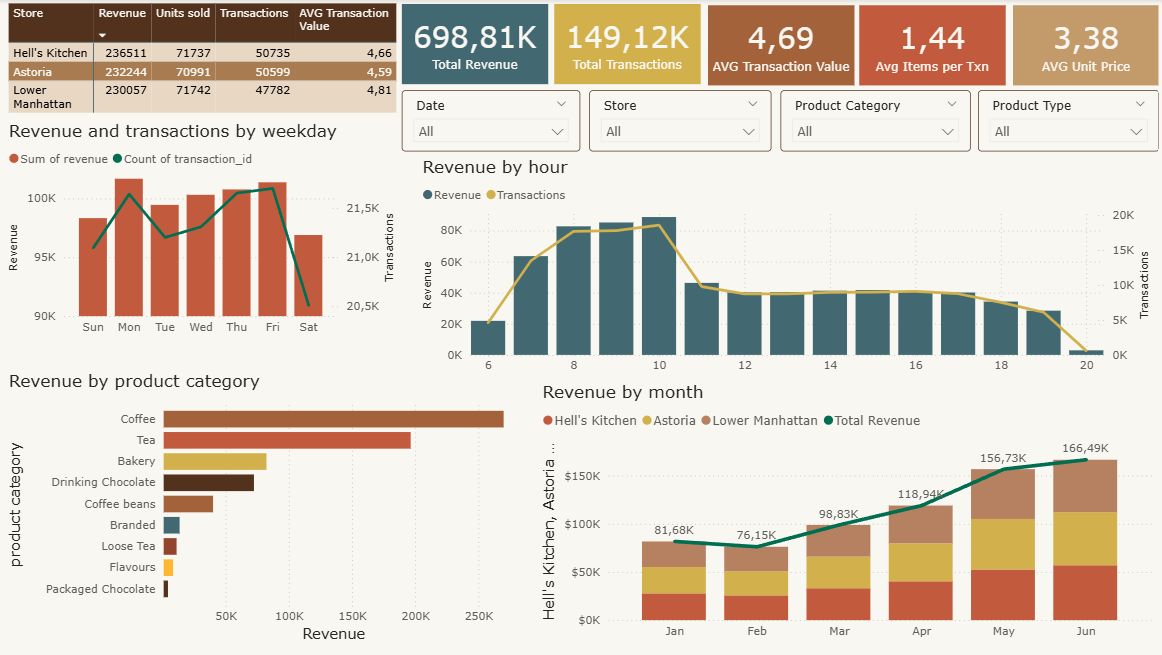

What the dashboard file says about the page in this screenshot:
{"tool":"powerbi","page":{"name":"Sales Overview","canvas":[1280,720],"ordinal":0},"visuals":[{"type":"card","fields":{"Values":["Sum(public coffee_sales.revenue)"]},"box":[443,5.5,161,88],"z":0},{"type":"card","fields":{"Values":["CountNonNull(public coffee_sales.transaction_id)"]},"box":[611,5.5,161,88],"z":1000},{"type":"card","fields":{"Values":["Measures_.Average Transaction Value"]},"box":[779,6.9,161,88],"z":2000},{"type":"card","fields":{"Values":["Measures_.Average Unit Price"]},"box":[1114,6.9,161,88],"z":3000},{"type":"card","fields":{"Values":["Measures_.Average Items per Transaction"]},"box":[946,6.9,161,88],"z":4000},{"type":"lineStackedColumnComboChart","title":"Revenue by month","fields":{"Category":["Calendar.MONTH name"],"Y":["Measures_.Revenue_HellsKitchen","Measures_.Revenue_Astoria","Measures_.Revenue_LowerManhattan"],"Y2":["Measures_.Total Revenue"]},"box":[592.8,419.9,679.2,290.9],"z":5000},{"type":"pivotTable","fields":{"Rows":["public coffee_sales.store_location"],"Values":["Measures_.Total Revenue","Sum(public coffee_sales.transaction_qty)","CountNonNull(public coffee_sales.transaction_id)","Measures_.Average Transaction Value"]},"box":[6.9,0,436.4,131.7],"z":6000},{"type":"lineClusteredColumnComboChart","title":"Revenue by hour","fields":{"Category":["public coffee_sales.hour"],"Y":["Sum(public coffee_sales.revenue)"],"Y2":["CountNonNull(public coffee_sales.transaction_id)"]},"box":[461.1,172.9,811,247],"z":7000},{"type":"lineClusteredColumnComboChart","title":"Revenue and transactions by weekday","fields":{"Y":["Sum(public coffee_sales.revenue)"],"Y2":["CountNonNull(public coffee_sales.transaction_id)"],"Category":["Calendar.WEEKDAY name"]},"box":[6.9,133.1,436.4,244.3],"z":8000},{"type":"clusteredBarChart","title":"Revenue by product category","fields":{"Category":["public coffee_sales.product_category"],"Y":["Sum(public coffee_sales.revenue)"]},"box":[6.9,407.5,569.5,303.3],"z":9000},{"type":"slicer","title":"Date","fields":{"Values":["Calendar.Date.Variation.Date Hierarchy.Month","Calendar.Date.Variation.Date Hierarchy.Day"]},"box":[443.2,100.2,196.2,67.2],"z":10000},{"type":"slicer","title":"Date","fields":{"Values":["public coffee_sales.store_location"]},"box":[649.1,100.2,200.3,67.2],"z":11000},{"type":"slicer","title":"Date","fields":{"Values":["public coffee_sales.product_category"]},"box":[859,100.2,209,67.2],"z":12000},{"type":"slicer","title":"Date","fields":{"Values":["public coffee_sales.product_type"]},"box":[1075.8,100.2,199,67.2],"z":13000}]}

Visuals, with their boxes in screenshot pixels (x1, y1, x2, y2), scaled from the page's 1280x720 canvas onto the 1162x655 screenshot:
card - Sum(public coffee_sales.revenue): rect(402, 5, 548, 85)
card - CountNonNull(public coffee_sales.transaction_id): rect(555, 5, 701, 85)
card - Measures_.Average Transaction Value: rect(707, 6, 853, 86)
card - Measures_.Average Unit Price: rect(1011, 6, 1157, 86)
card - Measures_.Average Items per Transaction: rect(859, 6, 1005, 86)
"Revenue by month" lineStackedColumnComboChart: rect(538, 382, 1155, 647)
pivotTable - public coffee_sales.store_location x Measures_.Total Revenue: rect(6, 0, 402, 120)
"Revenue by hour" lineClusteredColumnComboChart: rect(419, 157, 1155, 382)
"Revenue and transactions by weekday" lineClusteredColumnComboChart: rect(6, 121, 402, 343)
"Revenue by product category" clusteredBarChart: rect(6, 371, 523, 647)
"Date" slicer: rect(402, 91, 580, 152)
"Date" slicer: rect(589, 91, 771, 152)
"Date" slicer: rect(780, 91, 970, 152)
"Date" slicer: rect(977, 91, 1157, 152)
